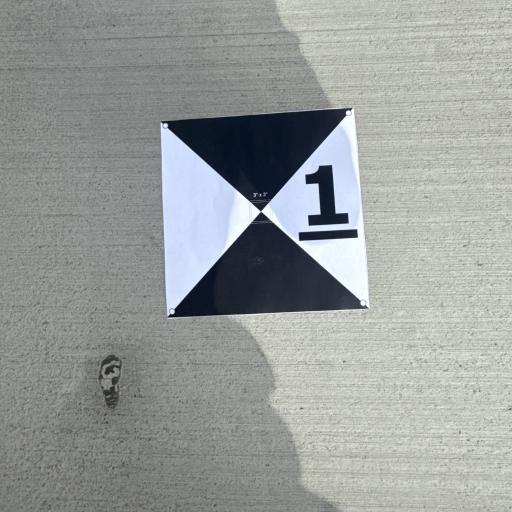target1: (156, 107, 373, 324)
